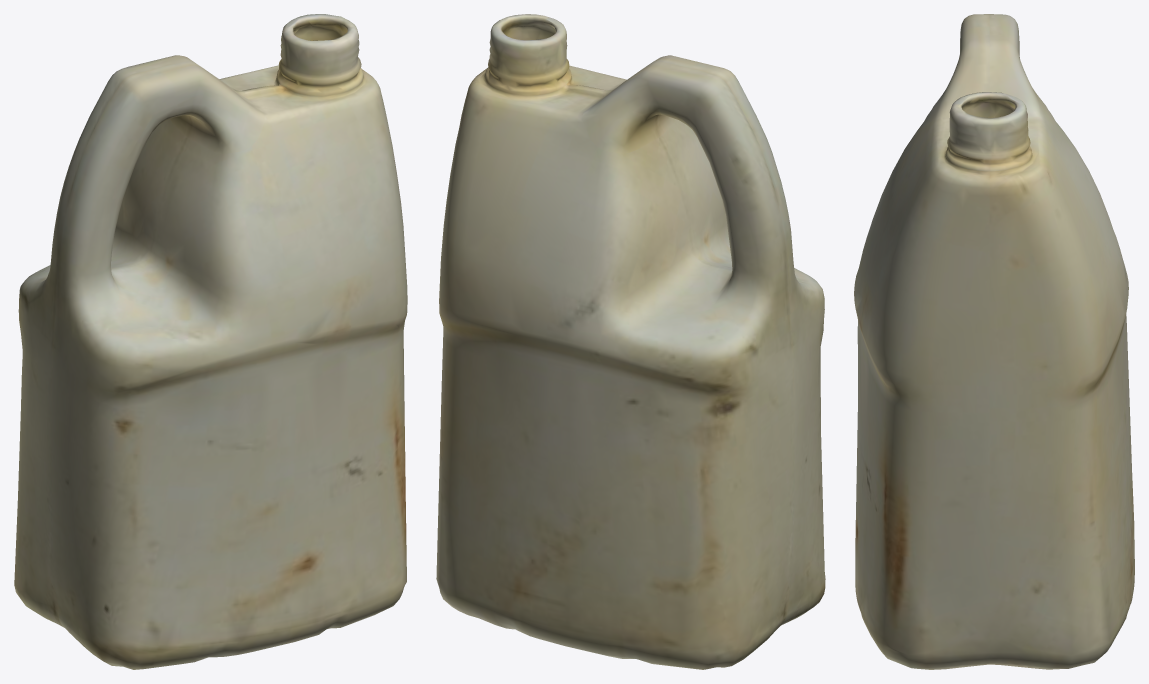
The model's file is plastic_bottle_gallon.glb.
3 renders of one model, left to right at view 1: azimuth 30°, elevation 25°; view 2: azimuth 150°, elevation 25°; view 3: azimuth 270°, elevation 25°, orthographic.
Parts seen in each view (by area): view 1: plastic_bottle_gallon; view 2: plastic_bottle_gallon; view 3: plastic_bottle_gallon.
Part boxes in pixels (<box>): plastic_bottle_gallon: <box>14,14,407,669</box>; plastic_bottle_gallon: <box>436,14,825,669</box>; plastic_bottle_gallon: <box>854,14,1134,669</box>.
Bounding box in the file's own units: 0.1662 × 0.2745 × 0.1263.
Materials: 1 (1 with a texture image).
